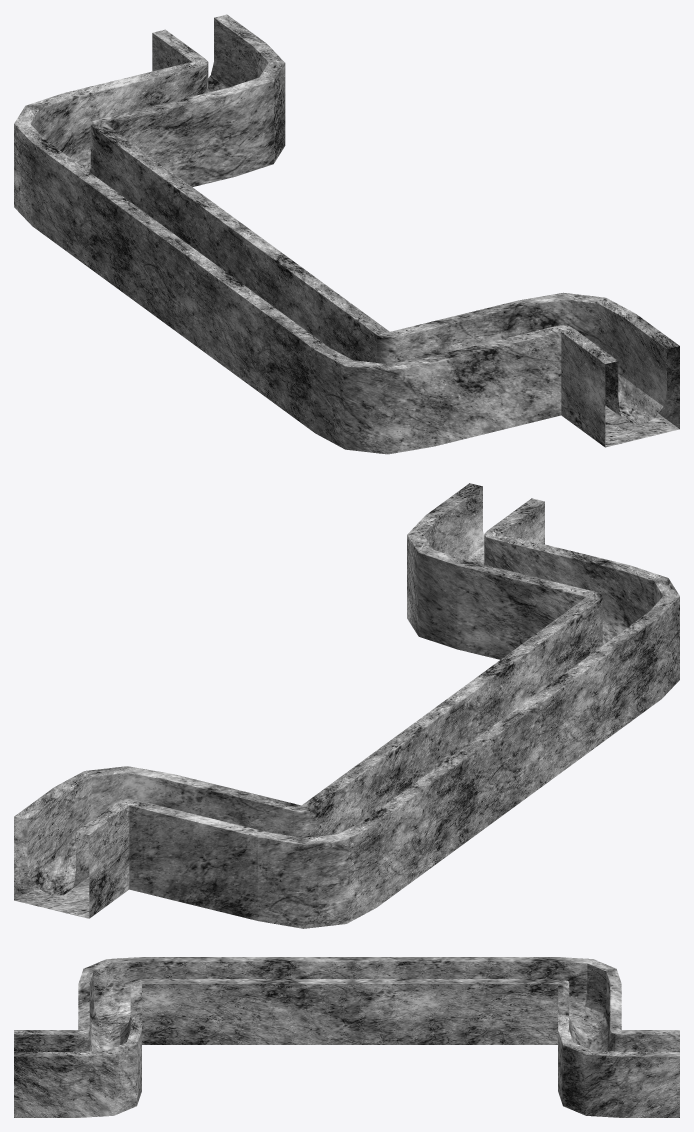
The model's file is Drain_shelterBench.fbx.
The picture shows the model from 3 angles, top to bottom: view 1: azimuth 30°, elevation 25°; view 2: azimuth 150°, elevation 25°; view 3: azimuth 270°, elevation 25°; orthographic projection. The views are drawn at different scales.
Visible parts, largest first — view 1: drain_shelter_bench_doneExport; view 2: drain_shelter_bench_doneExport; view 3: drain_shelter_bench_doneExport.
Boxes of the visible parts, box(x1,y1,x2,y2) form: drain_shelter_bench_doneExport: box(14, 14, 679, 454); drain_shelter_bench_doneExport: box(14, 483, 679, 928); drain_shelter_bench_doneExport: box(14, 957, 679, 1117).
Size of the model in its own units: 179 by 51.19 by 504.
Materials: 1 (1 with a texture image).
